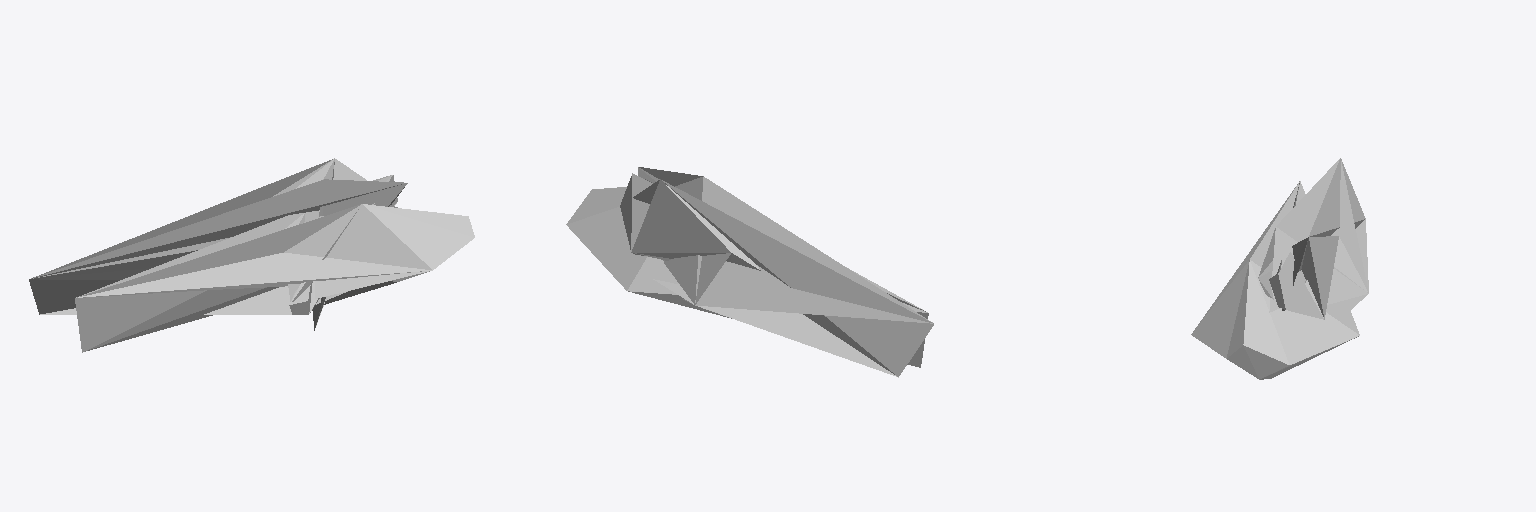
The model's file is Sentinel Head Chunks.obj.
The picture shows the model from 3 angles: view 1: azimuth 30°, elevation 25°; view 2: azimuth 150°, elevation 25°; view 3: azimuth 270°, elevation 25°; orthographic projection.
Parts seen in each view (by area): view 1: sentinel_head_bit, _ground_point, frame_root; view 2: sentinel_head_bit, _ground_point; view 3: sentinel_head_bit, _ground_point, frame_root.
Boxes of the visible parts, <box> form: sentinel_head_bit: <box>33,158,474,314</box>; _ground_point: <box>29,159,429,330</box>; frame_root: <box>75,253,432,352</box>; sentinel_head_bit: <box>566,173,933,377</box>; _ground_point: <box>633,167,932,323</box>; sentinel_head_bit: <box>1191,158,1368,379</box>; _ground_point: <box>1258,159,1368,316</box>; frame_root: <box>1193,181,1299,378</box>.
Size of the model in its own units: 44.93 by 14.07 by 17.59.